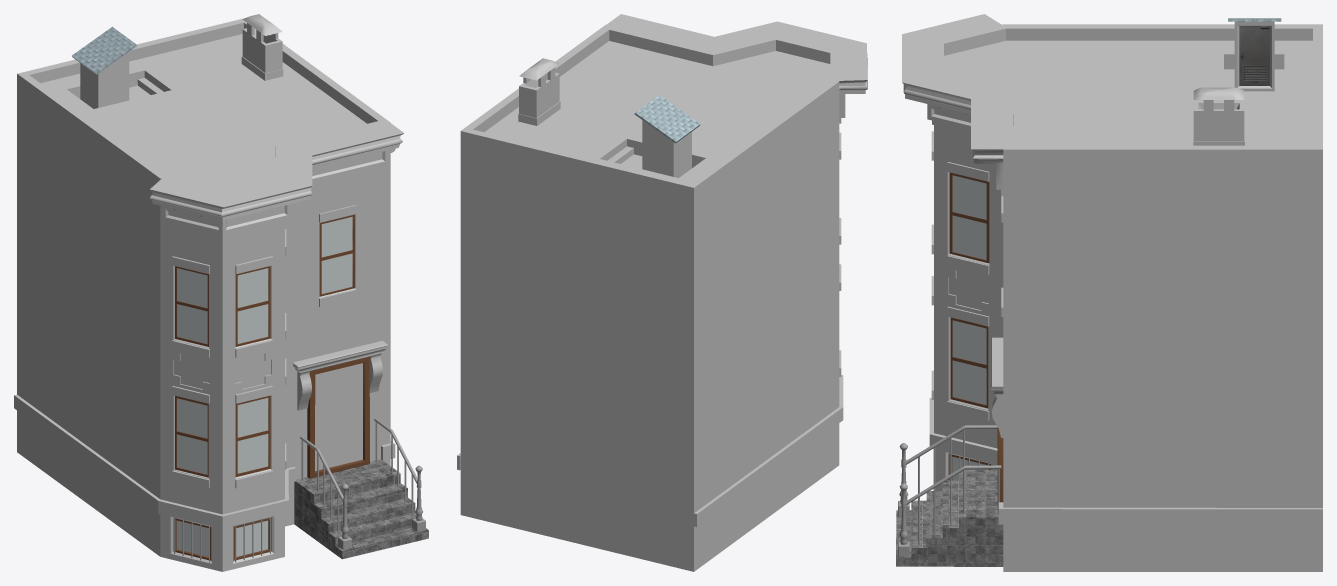
File: brooklyn_house.fbx
3 views of the same model, side by side, from view 1: azimuth 30°, elevation 25°; view 2: azimuth 150°, elevation 25°; view 3: azimuth 270°, elevation 25° (orthographic). The views are drawn at different scales.
Parts seen in each view (by area): view 1: brick, bitumen, concrete, windows, tiles, main_door, window_frames, metal, door_case, small_roof; view 2: brick, bitumen, concrete, small_roof; view 3: brick, bitumen, concrete, tiles, windows, metal, window_frames, roof_door.
Boxes of the visible parts, x1,y1,x2,y2 form: brick: [17, 28, 390, 571]; bitumen: [17, 18, 389, 193]; concrete: [14, 14, 403, 528]; windows: [176, 216, 352, 556]; tiles: [294, 459, 428, 559]; main_door: [315, 363, 362, 471]; window_frames: [173, 214, 354, 560]; metal: [174, 418, 425, 562]; door_case: [307, 357, 369, 478]; small_roof: [72, 26, 136, 74]; brick: [460, 72, 839, 571]; bitumen: [461, 24, 839, 187]; concrete: [457, 14, 867, 527]; small_roof: [634, 95, 700, 143]; brick: [934, 21, 1322, 571]; bitumen: [934, 24, 1322, 149]; concrete: [902, 14, 1322, 524]; tiles: [896, 470, 1003, 566]; windows: [952, 175, 987, 480]; metal: [898, 425, 1001, 556]; window_frames: [948, 172, 990, 480]; roof_door: [1239, 26, 1269, 85].
Bounding box in the file's own units: 0.1454 × 0.2309 × 0.1903.
